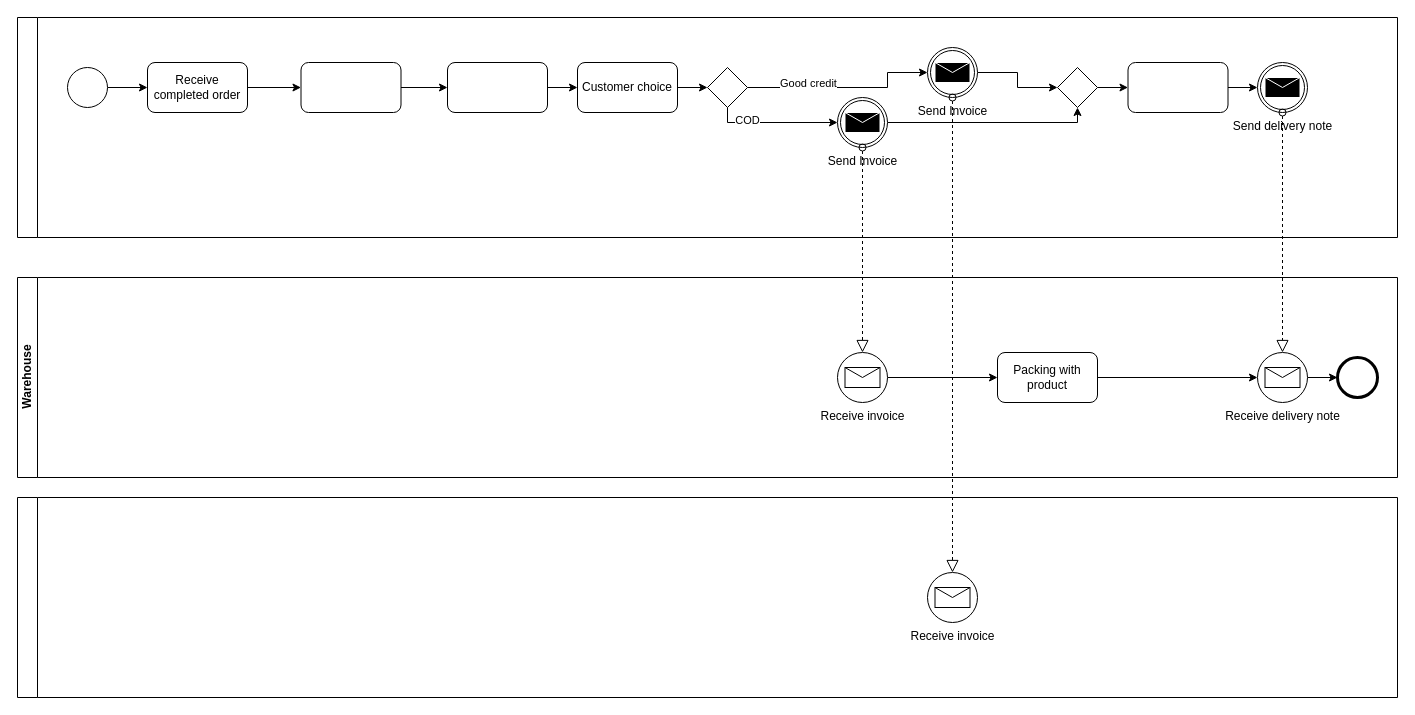
The diagram is 1415 pixels wide and 715 high, and some of its shapes have lost their labels. Each missing label, with the box of its shape:
Company: (16, 16, 1398, 238)
Compare with original order: (300, 62, 401, 112)
Customer: (16, 496, 1398, 698)
Produce an invoice: (446, 62, 548, 112)
Pruduce a delivery note: (1127, 62, 1228, 112)
